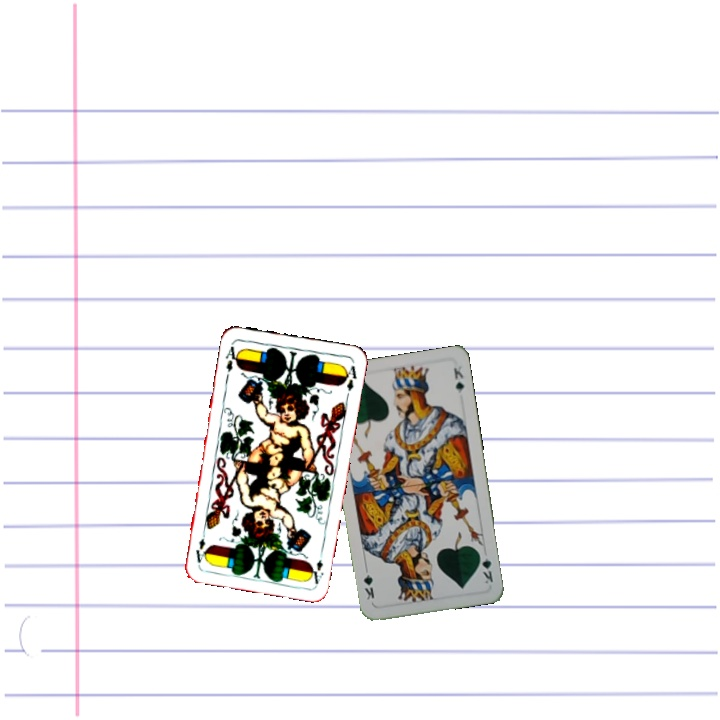EA: (306, 546, 326, 586), (221, 339, 242, 374)
GK: (475, 548, 496, 586)
